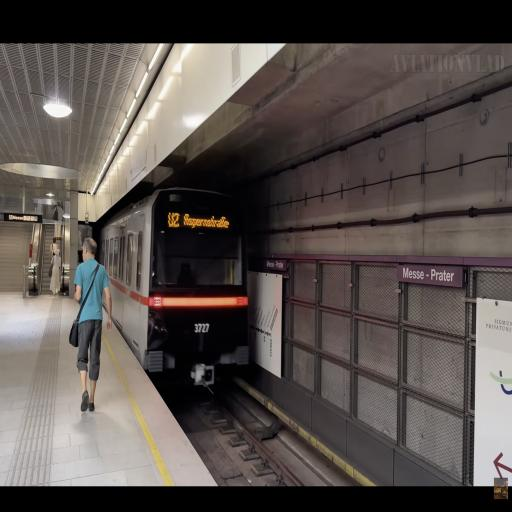X-Wagen: (103, 184, 254, 372)
